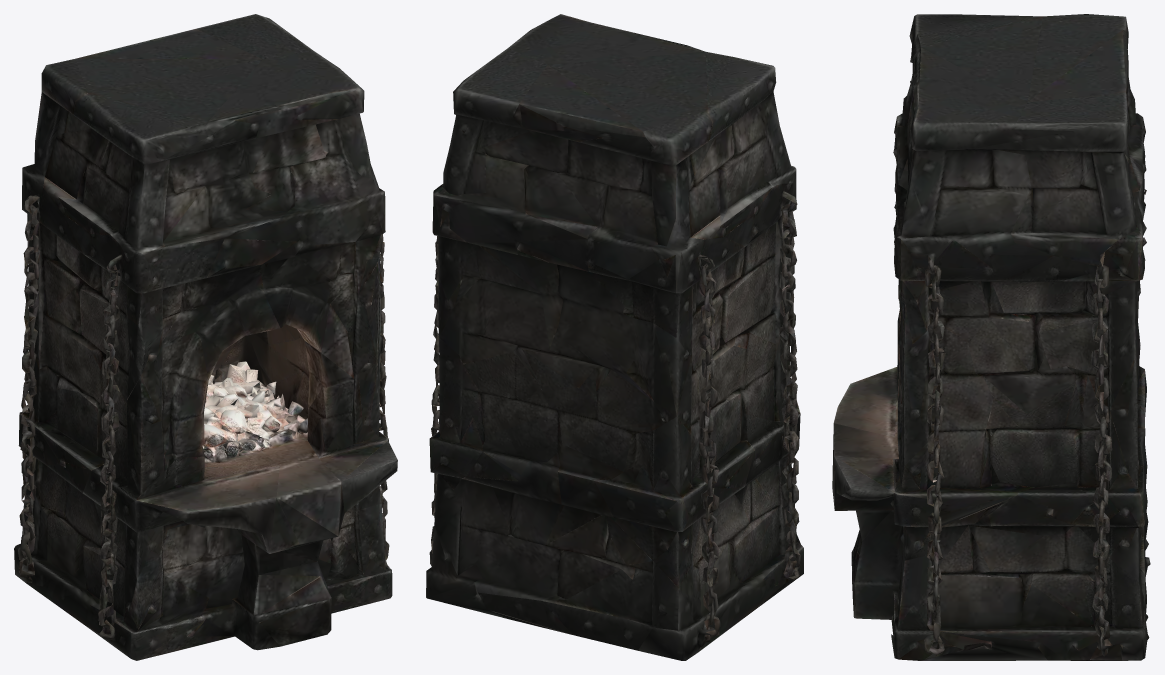
3 views of the same model, side by side, from view 1: azimuth 30°, elevation 25°; view 2: azimuth 150°, elevation 25°; view 3: azimuth 270°, elevation 25° (orthographic). The views are drawn at different scales.
Parts seen in each view (by area): view 1: mesh_node; view 2: mesh_node; view 3: mesh_node.
Part boxes in pixels (x1,y1,x2,y2): mesh_node: (14,14,397,660); mesh_node: (426,14,803,660); mesh_node: (832,14,1150,660).
Size of the model in its own units: 1.13 by 1.9 by 1.04.
1 material, 1 textured.
